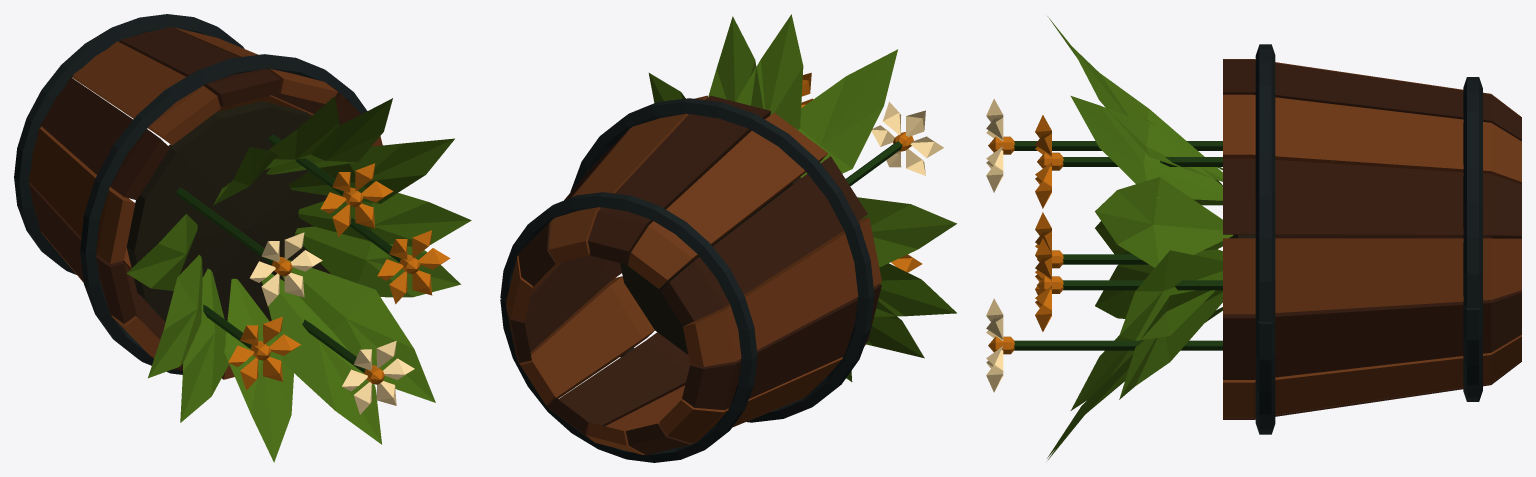
Rendered from HealingPlanter.obj.
3 renders of one model, left to right at view 1: azimuth 30°, elevation 25°; view 2: azimuth 150°, elevation 25°; view 3: azimuth 270°, elevation 25°, orthographic. The views are drawn at different scales.
Parts seen in each view (by area): view 1: HealingPlanter; view 2: HealingPlanter; view 3: HealingPlanter.
Boxes of the visible parts, box(x1,y1,x2,y2) form: HealingPlanter: box(14, 14, 471, 462); HealingPlanter: box(500, 14, 956, 462); HealingPlanter: box(986, 16, 1521, 460).
Bounding box in the file's own units: 77 × 75 × 91.
